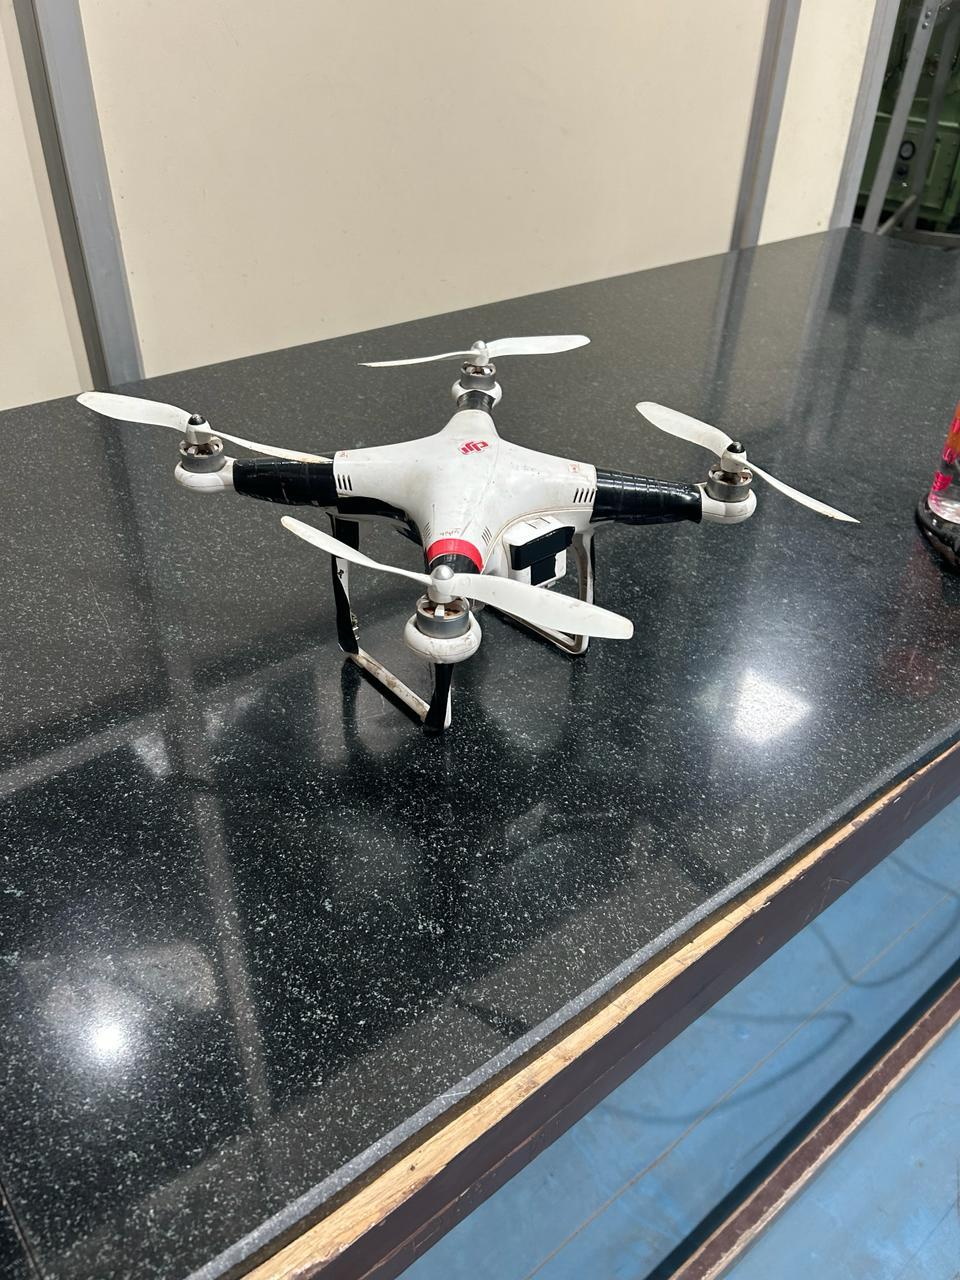drone: (47, 304, 868, 788)
